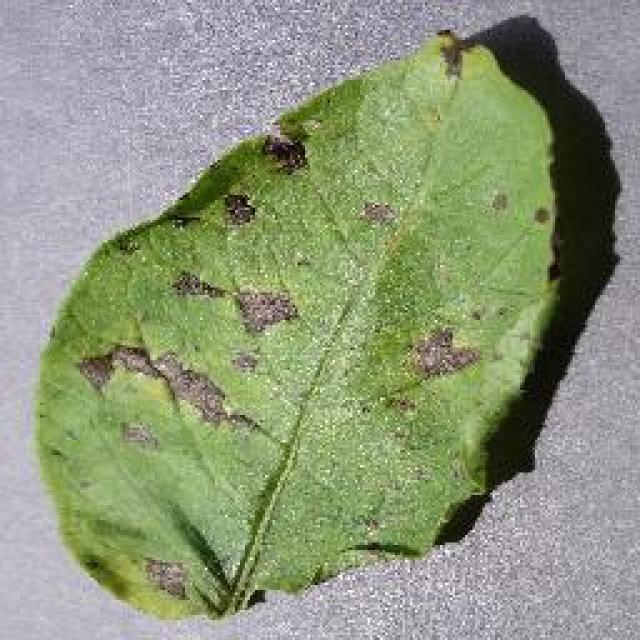Potato: (30, 20, 588, 622)
